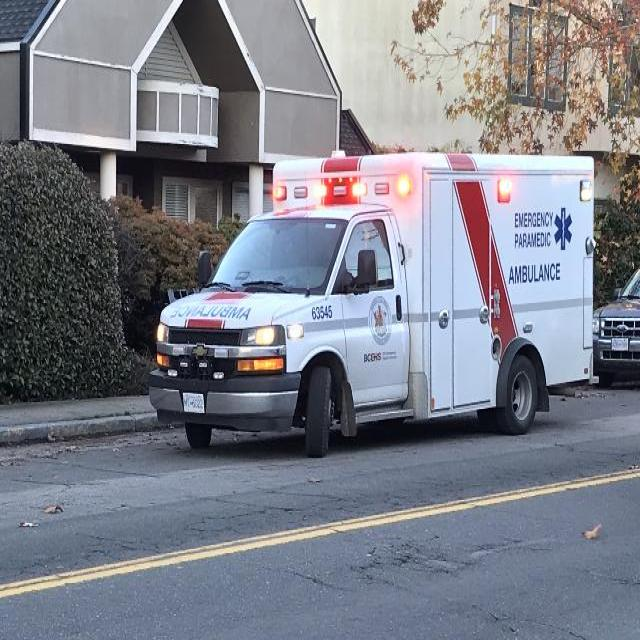emergency-vehicle: (148, 158, 596, 459)
